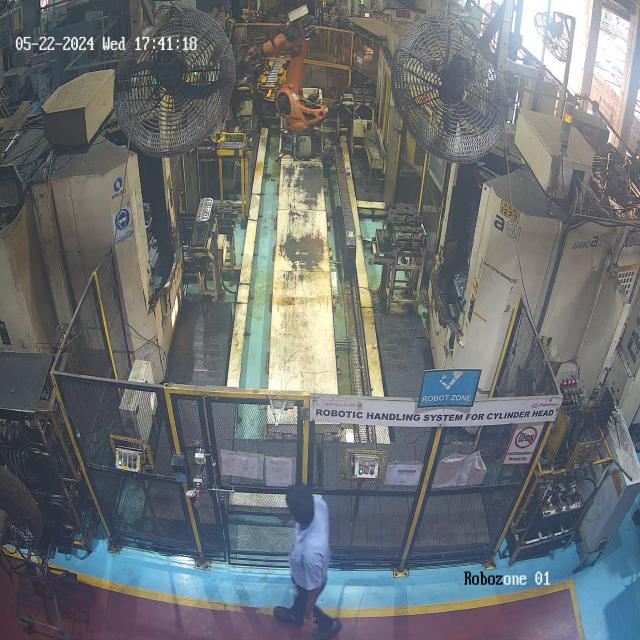person: (274, 476, 354, 640)
